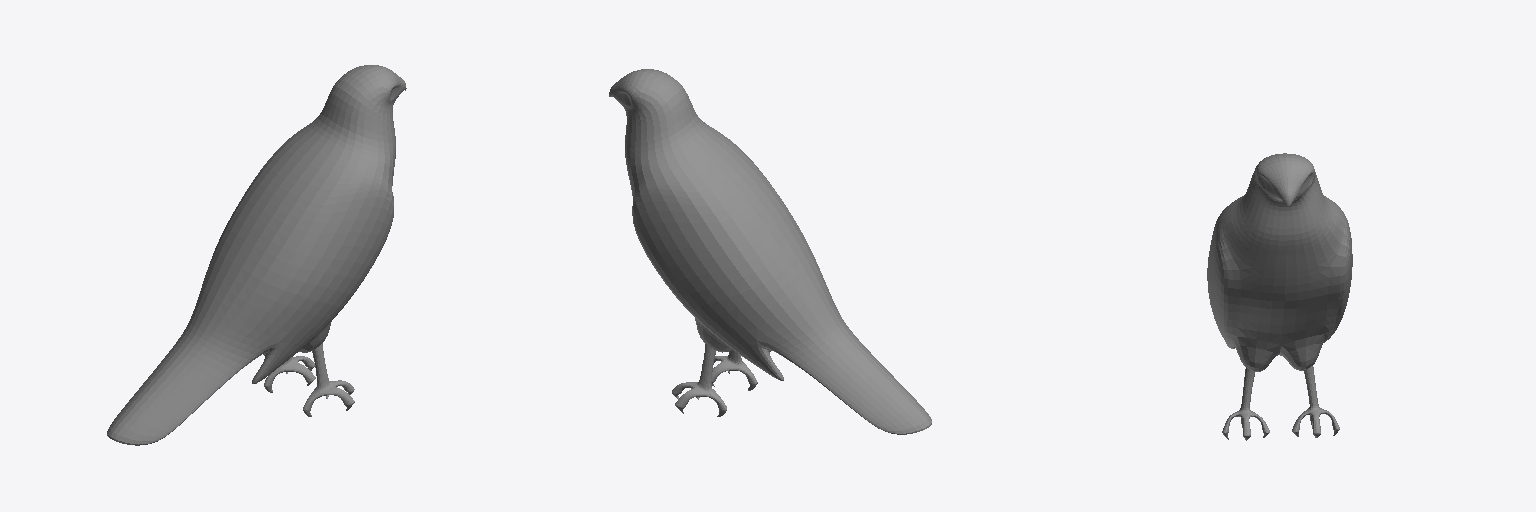
File: hawk.obj
3 renders of one model, left to right at view 1: azimuth 30°, elevation 25°; view 2: azimuth 150°, elevation 25°; view 3: azimuth 270°, elevation 25°, orthographic.
Visible parts, largest first — view 1: 10025_Hawk_v1_iterations-2; view 2: 10025_Hawk_v1_iterations-2; view 3: 10025_Hawk_v1_iterations-2.
Part boxes in pixels (x1,y1,x2,y2): 10025_Hawk_v1_iterations-2: (107,65,406,445); 10025_Hawk_v1_iterations-2: (609,69,931,434); 10025_Hawk_v1_iterations-2: (1207,153,1352,440).
Bounding box in the file's own units: 32.45 × 31.53 × 13.23.